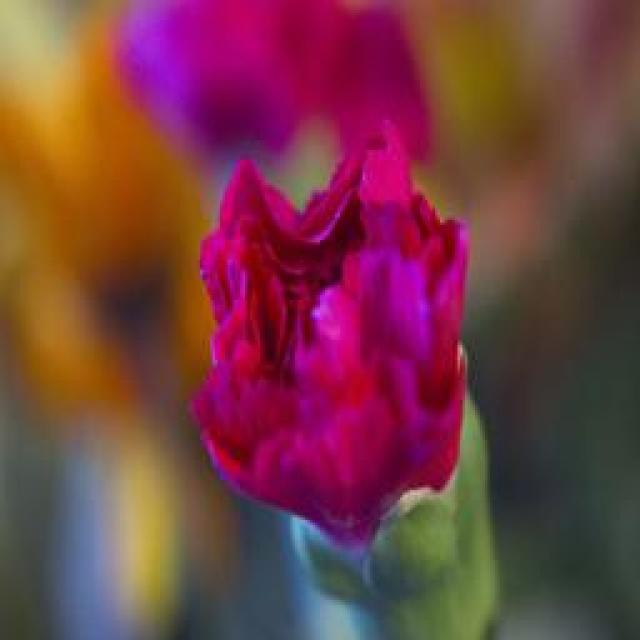carnation: (158, 138, 550, 602)
